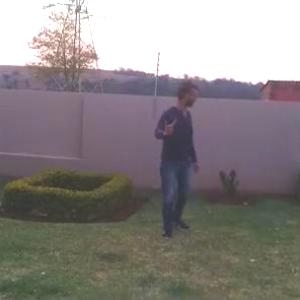takeoff-hand: (152, 108, 182, 139)
